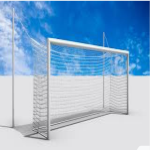goals: (26, 34, 132, 139)
